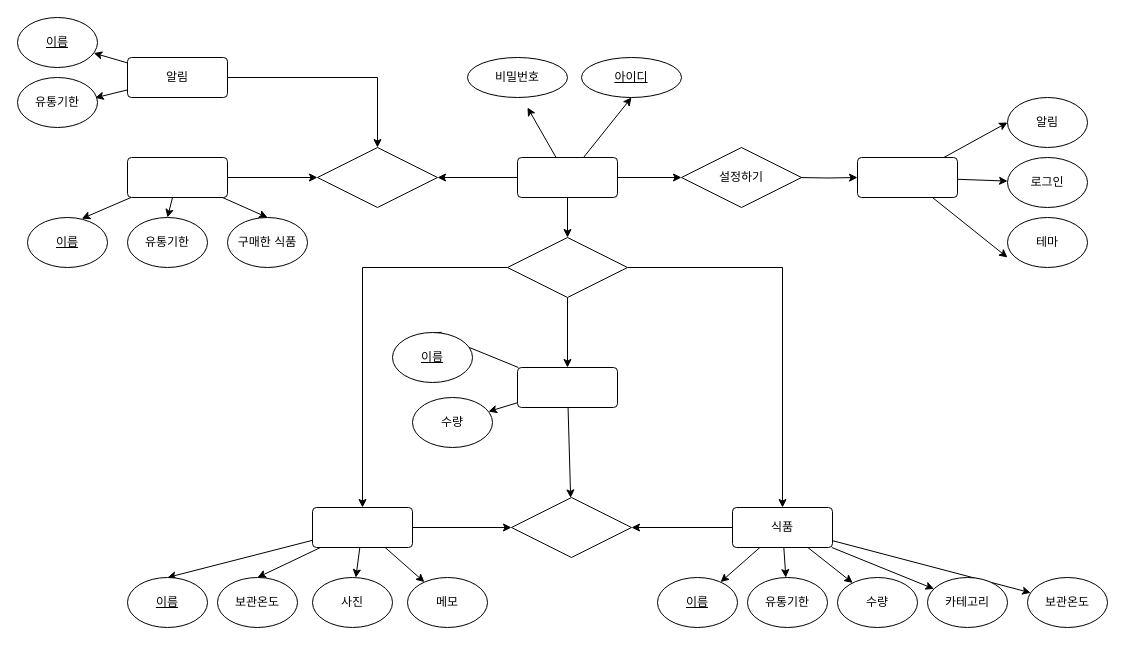
Some shapes in this 1125 by 645 pixel diagram are drawn without their labels. The shapes that lost their labels are listed below. From the top down, each one's centre as x and y in pixels, then its label:
point 177,177: 캘린더
point 377,177: 편의 기능
point 567,177: 사용자
point 907,177: 설정
point 567,267: 추가하기
point 567,387: 장바구니
point 362,527: 냉장고
point 571,527: 보관하기
